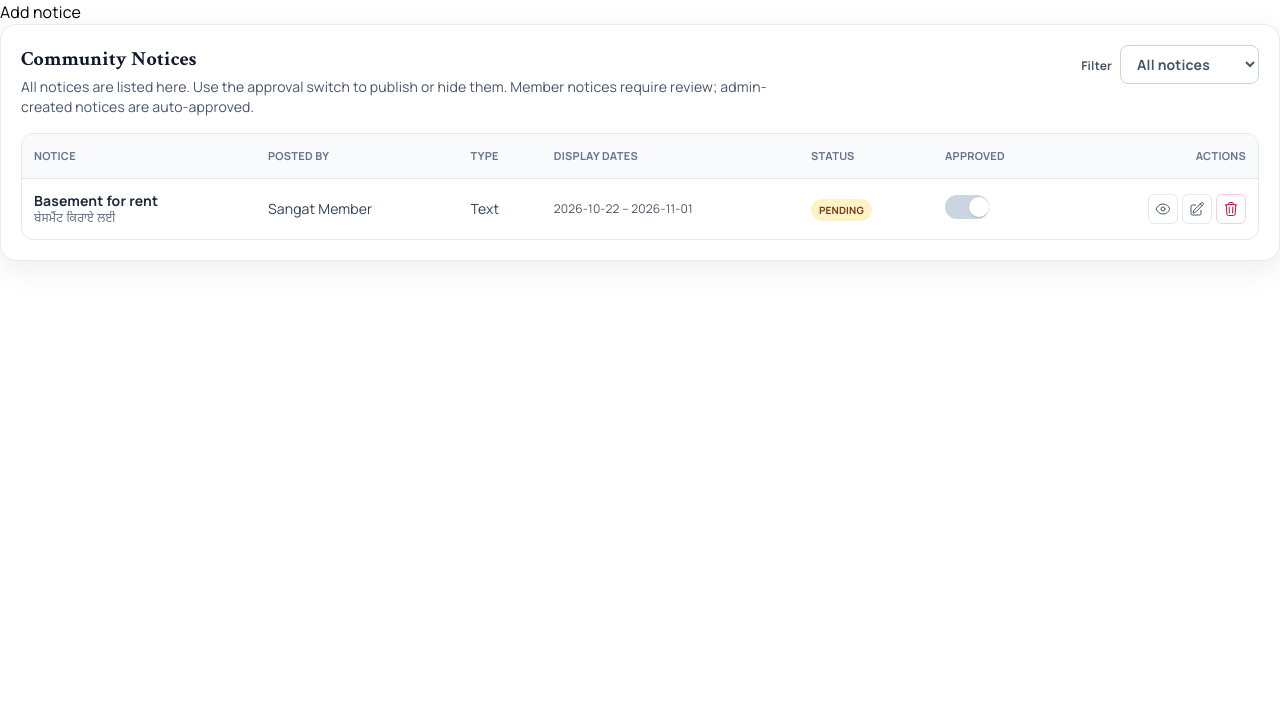
Test: view action opens a notice details dialog
The width and height of the screenshot is (1280, 720).
Click the button named "View Basement for rent": (1163, 209) x1=1148 y1=194 x2=1178 y2=224
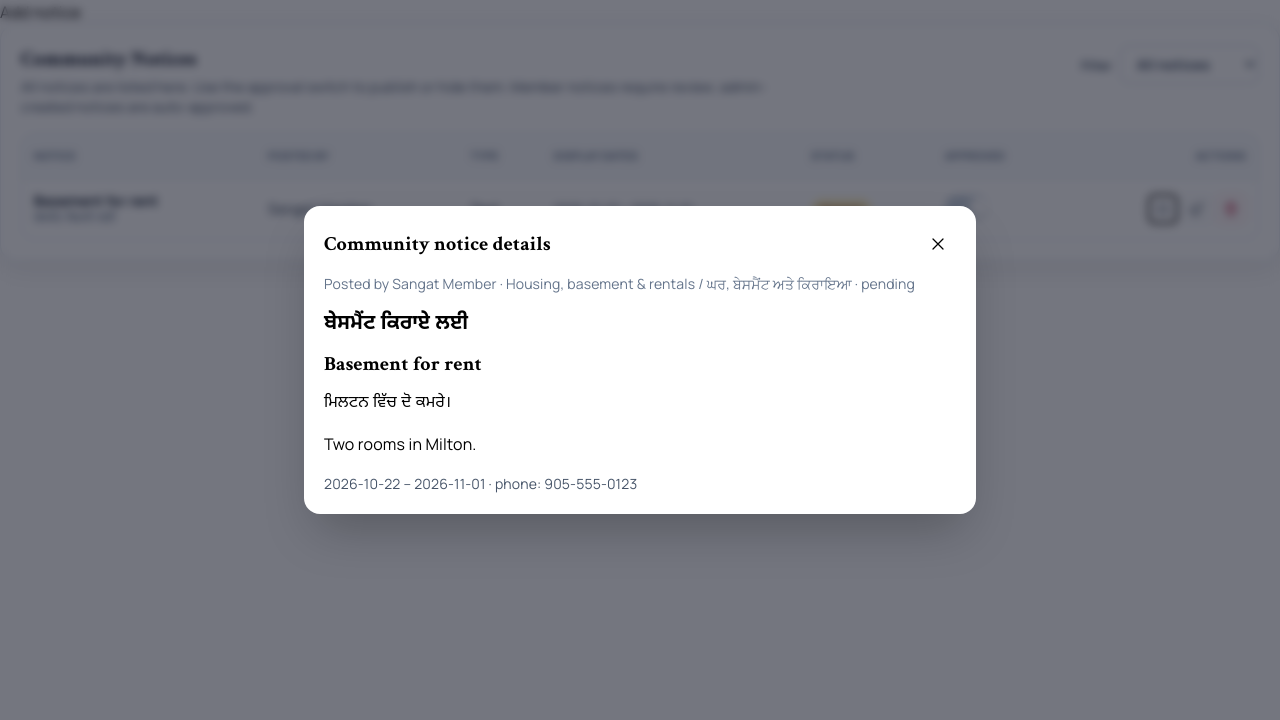
Now the dialog "Community notice details" is shown, box x1=304 y1=206 x2=976 y2=514
Now the text "Two rooms in Milton." is shown, box x1=324 y1=433 x2=477 y2=455
